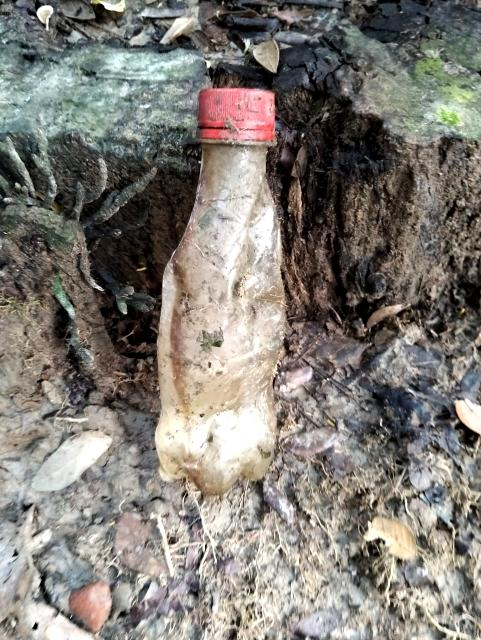bottle: (146, 81, 294, 489)
